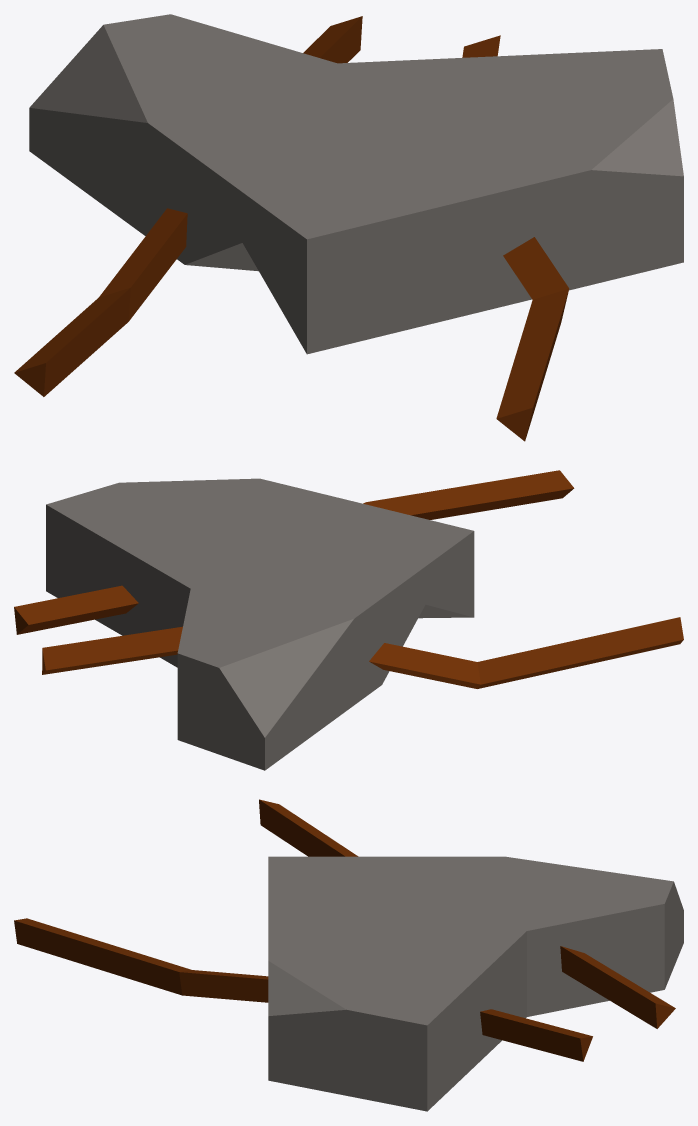
The model's file is Rubble2.glb.
3 renders of one model, top to bottom at view 1: azimuth 30°, elevation 25°; view 2: azimuth 150°, elevation 25°; view 3: azimuth 270°, elevation 25°, orthographic. The views are drawn at different scales.
Parts seen in each view (by area): view 1: Rubble1; view 2: Rubble1; view 3: Rubble1.
Boxes of the visible parts, x1,y1,x2,y2 form: Rubble1: (14,14,683,441); Rubble1: (14,470,683,770); Rubble1: (14,799,683,1111).
Size of the model in its own units: 1.2 by 0.1906 by 1.25.
